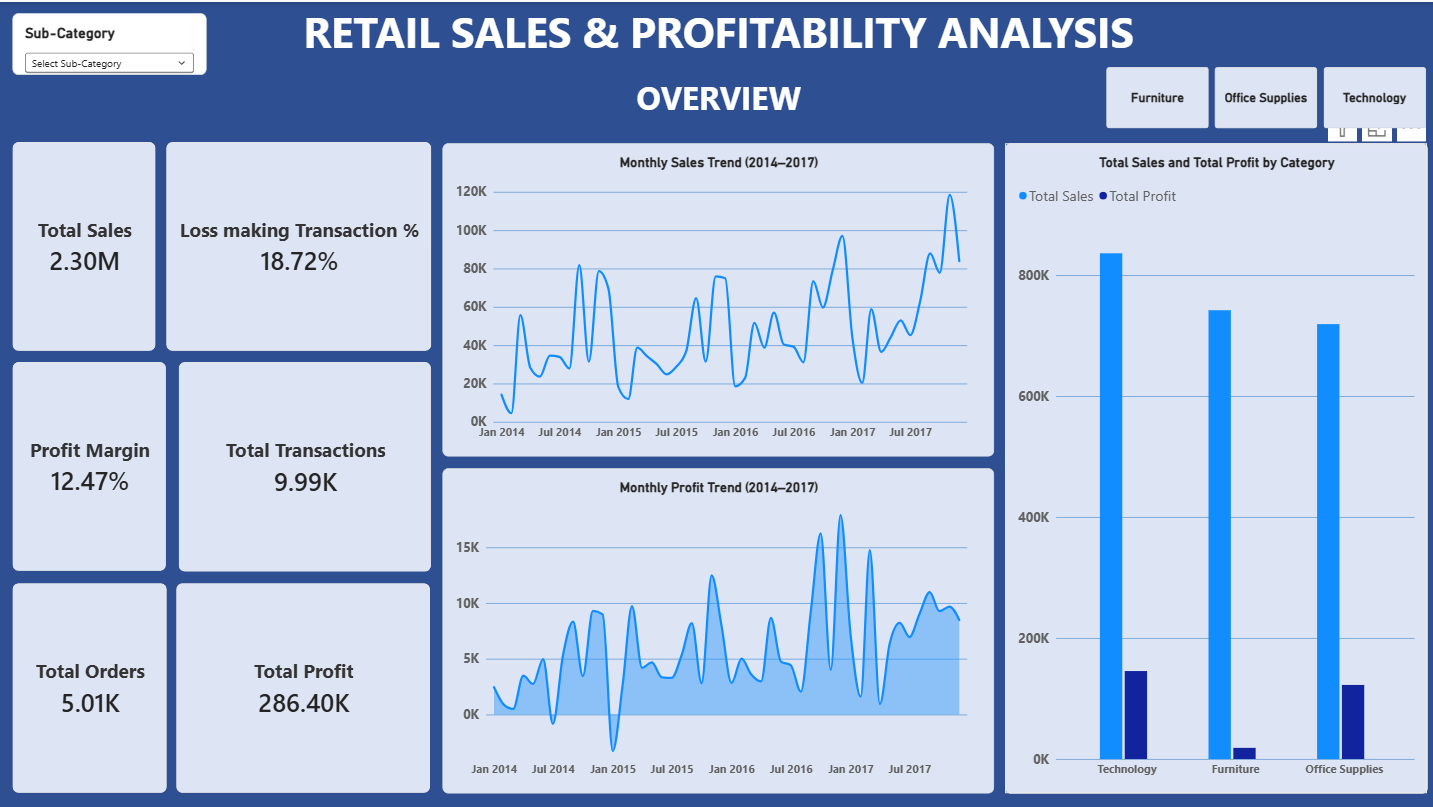

The dashboard page shown, as its layout file describes it:
{"tool":"powerbi","page":{"name":"OVERVIEW","canvas":[1920,1080],"ordinal":0},"visuals":[{"type":"cardVisual","fields":{"Data":["retail_analysis superstore.TotalSales"]},"box":[16.5,187.3,191.4,279.9],"z":0},{"type":"cardVisual","fields":{"Data":["retail_analysis superstore.Total Proft"]},"box":[236.1,775.8,339.4,280.4],"z":1000},{"type":"cardVisual","fields":{"Data":["retail_analysis superstore.Profit Margin"]},"box":[16.5,481.6,205.8,279.9],"z":2000},{"type":"cardVisual","fields":{"Data":["retail_analysis superstore.Total Orders"]},"box":[16.9,775.8,206.6,280.4],"z":3000},{"type":"cardVisual","fields":{"Data":["retail_analysis superstore.Total Transactions"]},"box":[238.2,480.6,337.3,280.4],"z":4000},{"type":"cardVisual","fields":{"Data":["retail_analysis superstore.Loss-making Transaction"]},"box":[222.3,187.3,354,279.9],"z":5000},{"type":"textbox","box":[0,0,1920,100],"z":6000},{"type":"lineChart","title":"Monthly Sales Trend (2014–2017)","fields":{"Category":["retail_analysis superstore.Month Start"],"Y":["retail_analysis superstore.Total Sales"]},"box":[591.8,188.2,736.5,418],"z":7000},{"type":"lineChart","title":"Monthly Profit Trend (2014–2017)","fields":{"Category":["retail_analysis superstore.Month Start"],"Y":["retail_analysis superstore.Total Proft"]},"box":[591.8,622.5,736.5,434.3],"z":8000},{"type":"clusteredColumnChart","fields":{"Category":["retail_analysis superstore.Category"],"Y":["retail_analysis superstore.Total Sales","retail_analysis superstore.Total Proft"]},"box":[1342.8,188.2,564.6,868.6],"z":9000},{"type":"textbox","box":[0,97.7,1920.1,57.9],"z":10000},{"type":"advancedSlicerVisual","fields":{"Values":["retail_analysis superstore.Category"]},"box":[1477.9,86.4,428.1,82.3],"z":11000},{"type":"listSlicer","fields":{"Values":["retail_analysis superstore.Sub-Category"]},"box":[16.5,14.4,259.3,82.3],"z":12000}]}

Visuals, with their boxes in screenshot pixels (x1, y1, x2, y2), scaled from the page's 1920x1080 canvas onto the 1433x807 screenshot:
cardVisual - retail_analysis superstore.TotalSales: pyautogui.locateOnScreen(12, 140, 155, 349)
cardVisual - retail_analysis superstore.Total Proft: pyautogui.locateOnScreen(176, 580, 430, 789)
cardVisual - retail_analysis superstore.Profit Margin: pyautogui.locateOnScreen(12, 360, 166, 569)
cardVisual - retail_analysis superstore.Total Orders: pyautogui.locateOnScreen(13, 580, 167, 789)
cardVisual - retail_analysis superstore.Total Transactions: pyautogui.locateOnScreen(178, 359, 430, 569)
cardVisual - retail_analysis superstore.Loss-making Transaction: pyautogui.locateOnScreen(166, 140, 430, 349)
textbox: pyautogui.locateOnScreen(0, 0, 1432, 75)
"Monthly Sales Trend (2014–2017)" lineChart: pyautogui.locateOnScreen(442, 141, 991, 453)
"Monthly Profit Trend (2014–2017)" lineChart: pyautogui.locateOnScreen(442, 465, 991, 790)
clusteredColumnChart - retail_analysis superstore.Category x retail_analysis superstore.Total Sales: pyautogui.locateOnScreen(1002, 141, 1424, 790)
textbox: pyautogui.locateOnScreen(0, 73, 1432, 116)
advancedSlicerVisual - retail_analysis superstore.Category: pyautogui.locateOnScreen(1103, 65, 1423, 126)
listSlicer - retail_analysis superstore.Sub-Category: pyautogui.locateOnScreen(12, 11, 206, 72)
